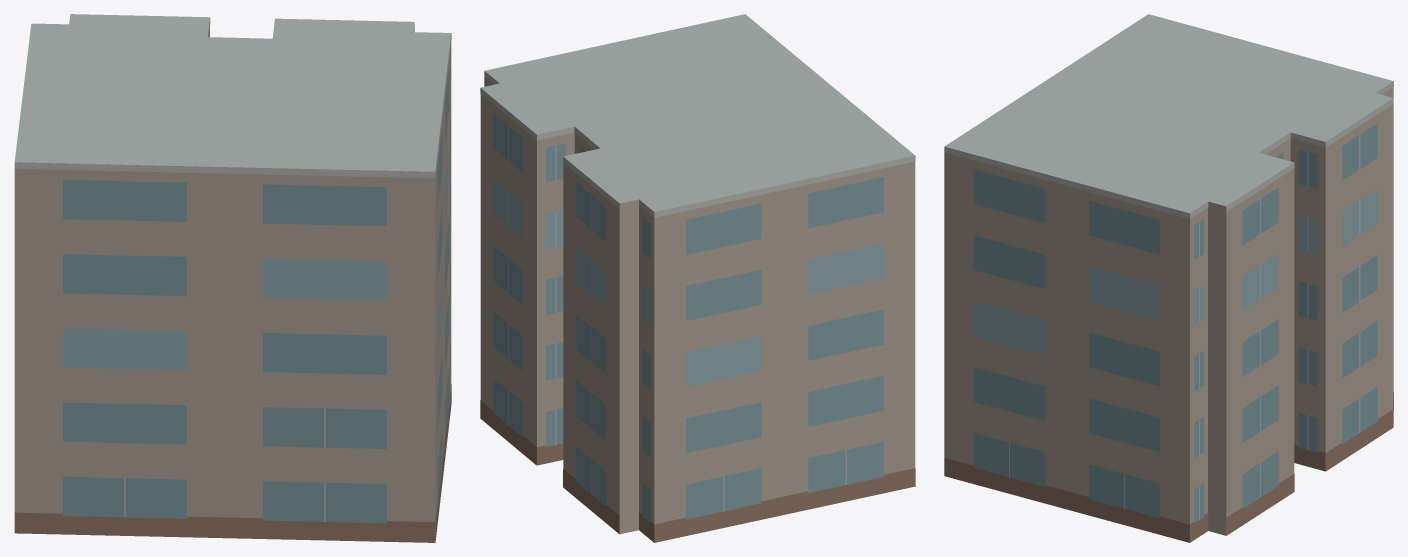
File: survey-upis-32966272.glb
The picture shows the model from 3 angles, left to right: view 1: azimuth 30°, elevation 25°; view 2: azimuth 150°, elevation 25°; view 3: azimuth 270°, elevation 25°; orthographic projection. The views are drawn at different scales.
Visible parts, largest first — view 1: survey-upis-32966272.tmp; view 2: survey-upis-32966272.tmp; view 3: survey-upis-32966272.tmp.
Boxes of the visible parts, left/top/right/bottom form: survey-upis-32966272.tmp: left=14, top=14, right=451, bottom=542; survey-upis-32966272.tmp: left=480, top=14, right=915, bottom=542; survey-upis-32966272.tmp: left=944, top=14, right=1393, bottom=542.
Size of the model in its own units: 17.92 by 13.8 by 17.07.
